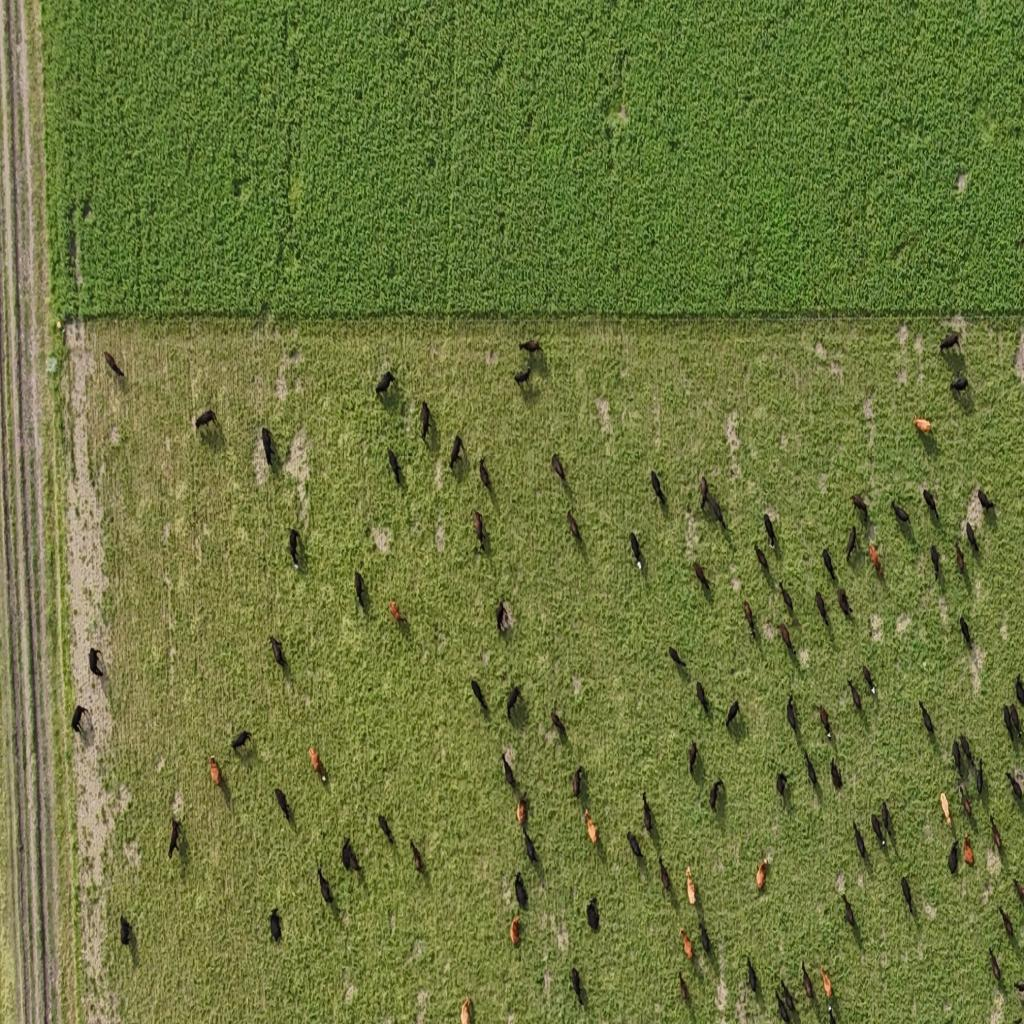cow: (407, 825, 427, 882), (341, 837, 361, 874), (274, 787, 293, 824), (318, 864, 334, 907), (626, 830, 644, 868), (309, 746, 327, 783), (960, 733, 976, 774), (495, 598, 513, 634), (650, 469, 667, 507), (1002, 704, 1018, 744), (1005, 769, 1023, 804), (775, 988, 793, 1023), (506, 685, 523, 722), (168, 815, 182, 859), (471, 678, 488, 714), (998, 906, 1014, 944), (261, 427, 276, 467), (628, 532, 644, 569), (710, 493, 726, 530), (104, 350, 125, 378), (375, 371, 396, 399), (658, 855, 672, 897), (853, 820, 867, 862), (989, 814, 1004, 853), (742, 600, 757, 639), (387, 448, 402, 487), (694, 561, 711, 595), (269, 636, 286, 670), (920, 701, 936, 737), (288, 528, 302, 569), (231, 729, 253, 755), (871, 812, 886, 850), (472, 509, 486, 549), (569, 966, 583, 1006), (779, 621, 795, 656), (786, 695, 799, 738), (71, 705, 89, 736), (822, 546, 837, 583), (939, 331, 962, 355), (763, 512, 777, 551), (838, 587, 854, 621), (709, 778, 724, 814), (965, 520, 980, 556), (901, 875, 914, 916), (584, 808, 598, 846), (502, 752, 516, 790), (514, 871, 528, 909), (843, 893, 857, 931), (449, 434, 463, 472), (815, 590, 829, 628), (891, 501, 911, 527), (952, 734, 965, 774), (586, 896, 600, 933), (550, 708, 566, 740), (754, 544, 770, 576), (868, 544, 883, 578), (567, 509, 582, 543), (852, 493, 869, 523), (848, 678, 863, 712), (779, 582, 794, 616), (194, 409, 216, 432), (388, 600, 406, 628), (802, 960, 814, 1002), (524, 830, 538, 866), (696, 680, 710, 716), (88, 647, 104, 678), (378, 813, 394, 844), (817, 704, 832, 737), (479, 455, 492, 493), (880, 798, 893, 836), (978, 488, 997, 514), (805, 752, 818, 790), (419, 400, 431, 441), (570, 765, 584, 800), (642, 792, 653, 836), (820, 963, 833, 1000), (988, 946, 1001, 983), (940, 790, 952, 830), (551, 452, 566, 484), (923, 488, 939, 518), (746, 955, 758, 995), (354, 570, 366, 610), (680, 927, 694, 961), (512, 366, 531, 390), (846, 526, 858, 564), (269, 908, 282, 943), (698, 921, 711, 956), (863, 666, 877, 698), (669, 645, 686, 671), (726, 699, 740, 730), (518, 338, 542, 356), (209, 756, 222, 788), (830, 758, 842, 792), (960, 614, 972, 648), (686, 866, 696, 906), (510, 914, 522, 947), (120, 915, 132, 948), (960, 786, 972, 818), (776, 772, 788, 804), (688, 739, 698, 777), (930, 544, 940, 582), (950, 374, 968, 394), (956, 542, 966, 578), (698, 474, 708, 510), (948, 840, 958, 876), (460, 997, 473, 1024), (975, 759, 984, 797), (756, 860, 767, 891), (914, 416, 932, 434), (964, 834, 974, 866), (678, 970, 688, 1002), (516, 797, 527, 825), (827, 1002, 837, 1024), (1018, 676, 1024, 710), (1018, 980, 1024, 1004), (1017, 1016, 1024, 1024)
